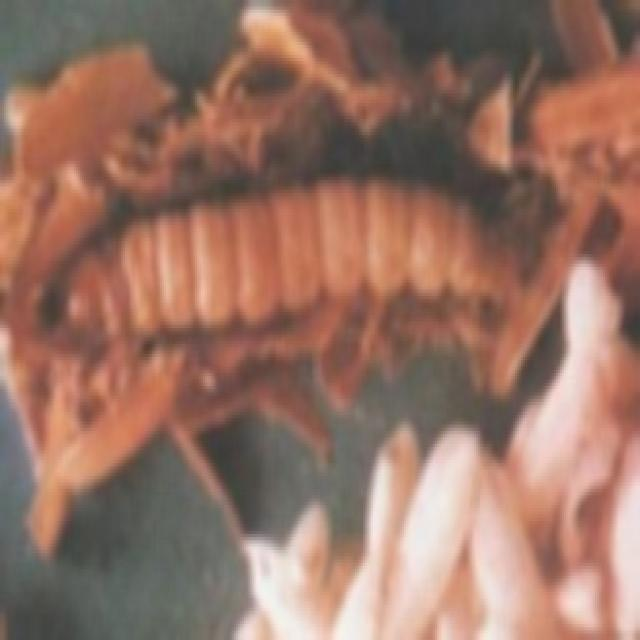peach borer: (48, 186, 528, 331)
